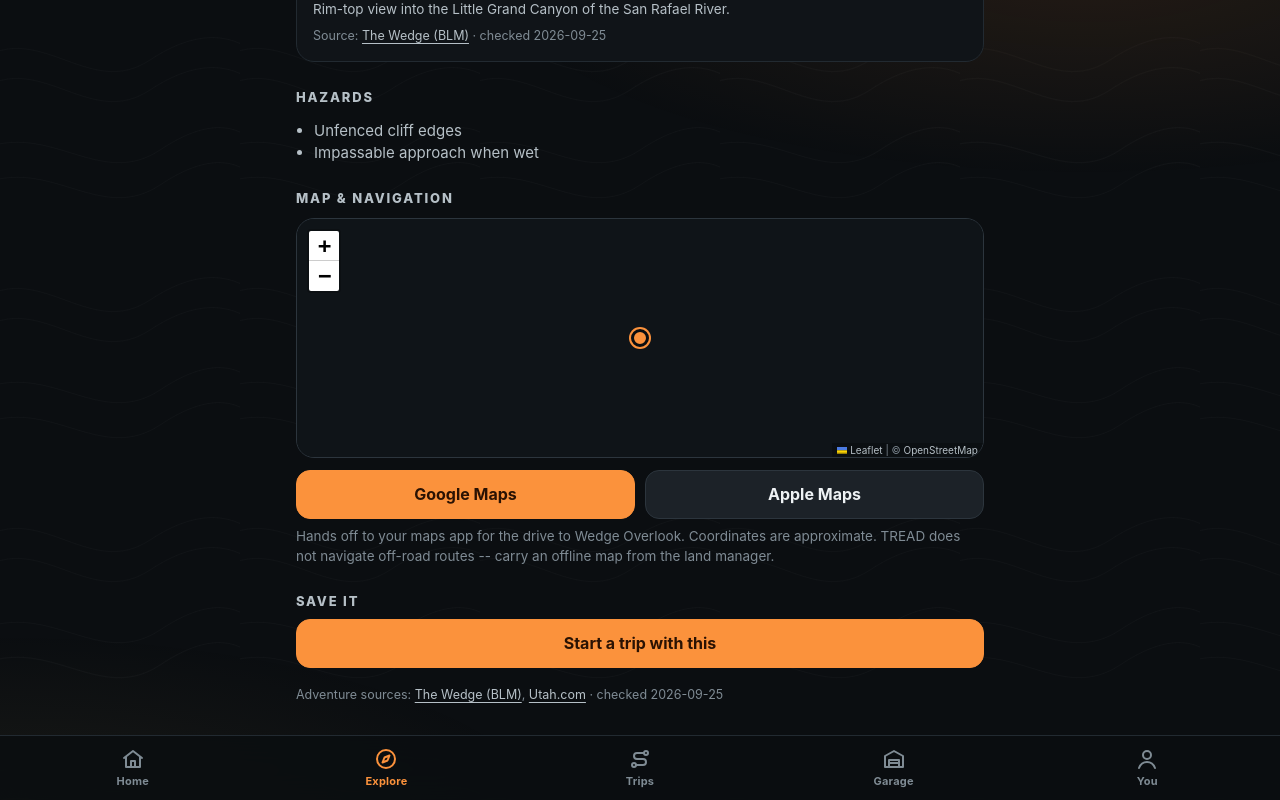
Test: discovery and trips through the UI › creates a trip from an adventure and opens Ready to Go
(page scrolled)
Click the button "Start a trip with this".
click(640, 643)  # box [296, 619, 984, 668]
(page scrolled)
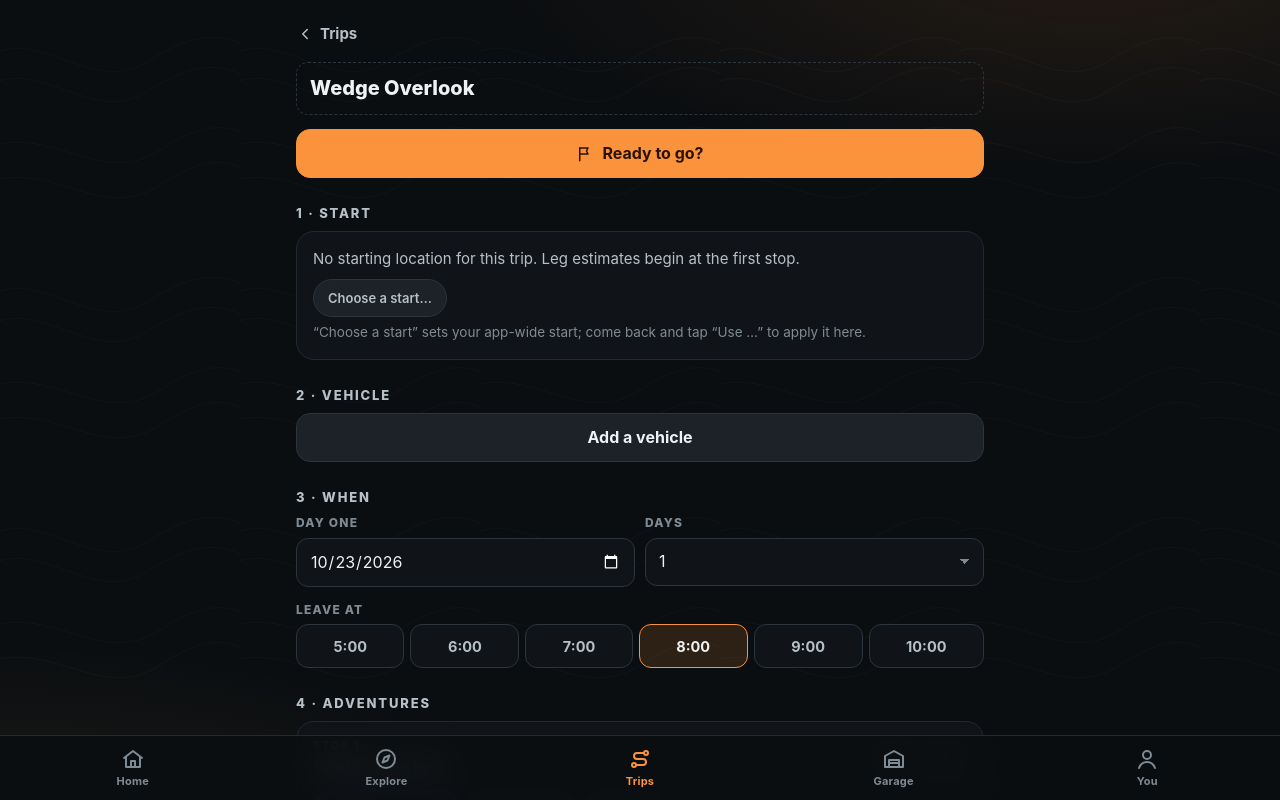
Result: the button "Ready to go?" is shown
Click the button "Ready to go?".
click(640, 154)  # box [296, 129, 984, 178]
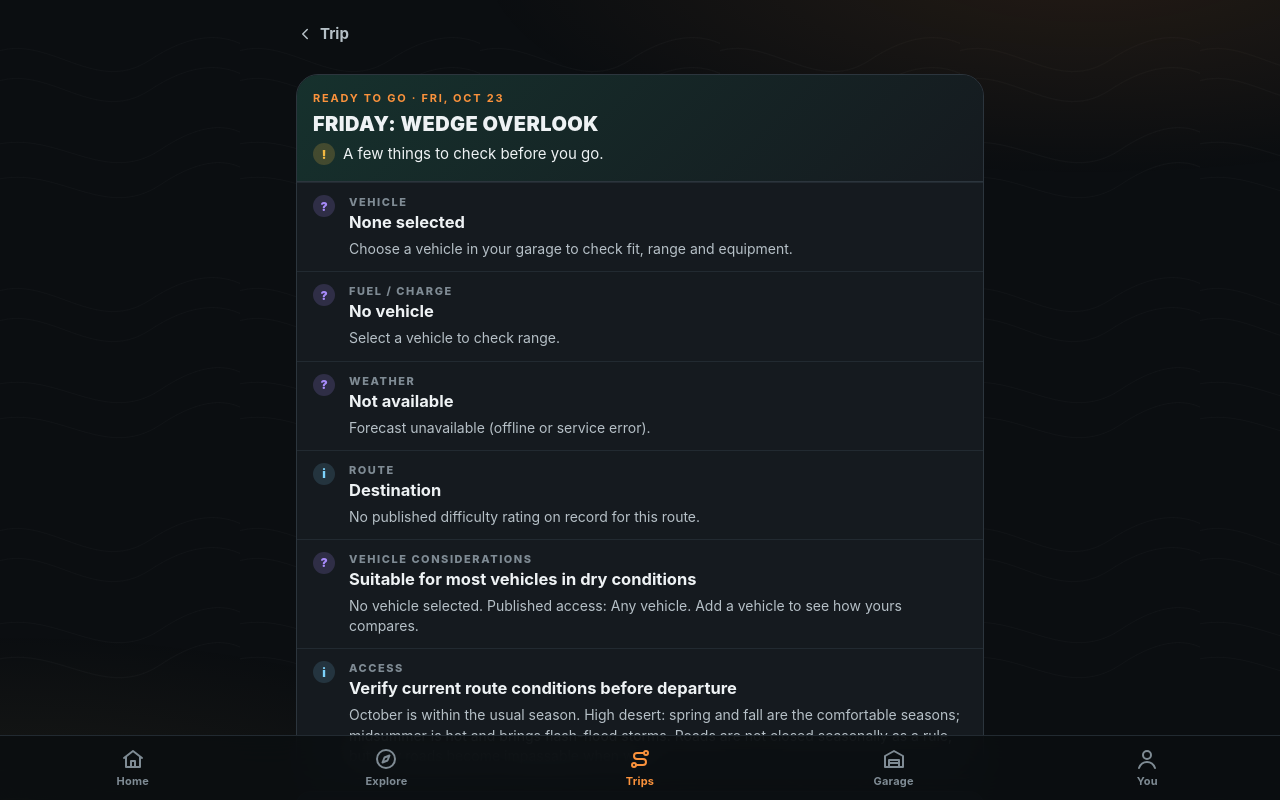
Result: the element named "Ready to go summary" is shown at [296, 74, 984, 779]
Result: the heading "FRIDAY: WEDGE OVERLOOK" is shown at [313, 112, 599, 136]
